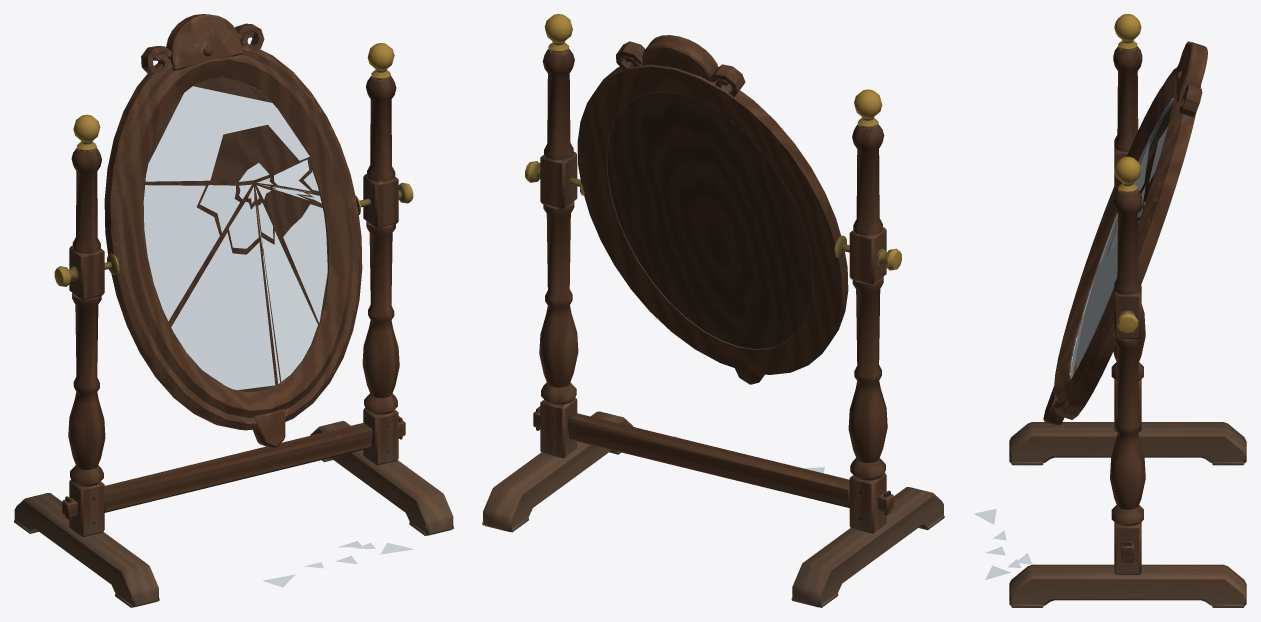
The model's file is mirror-broken.hq.glb.
The picture shows the model from 3 angles, left to right: view 1: azimuth 30°, elevation 25°; view 2: azimuth 150°, elevation 25°; view 3: azimuth 270°, elevation 25°; orthographic projection. The views are drawn at different scales.
Parts seen in each view (by area): view 1: mirror-broken; view 2: mirror-broken; view 3: mirror-broken.
Part boxes in pixels (x1,y1,x2,y2): mirror-broken: [14, 14, 453, 607]; mirror-broken: [482, 14, 944, 607]; mirror-broken: [974, 14, 1246, 607].
Size of the model in its own units: 0.888 by 1.17 by 0.5983.
2 materials, 1 textured.
